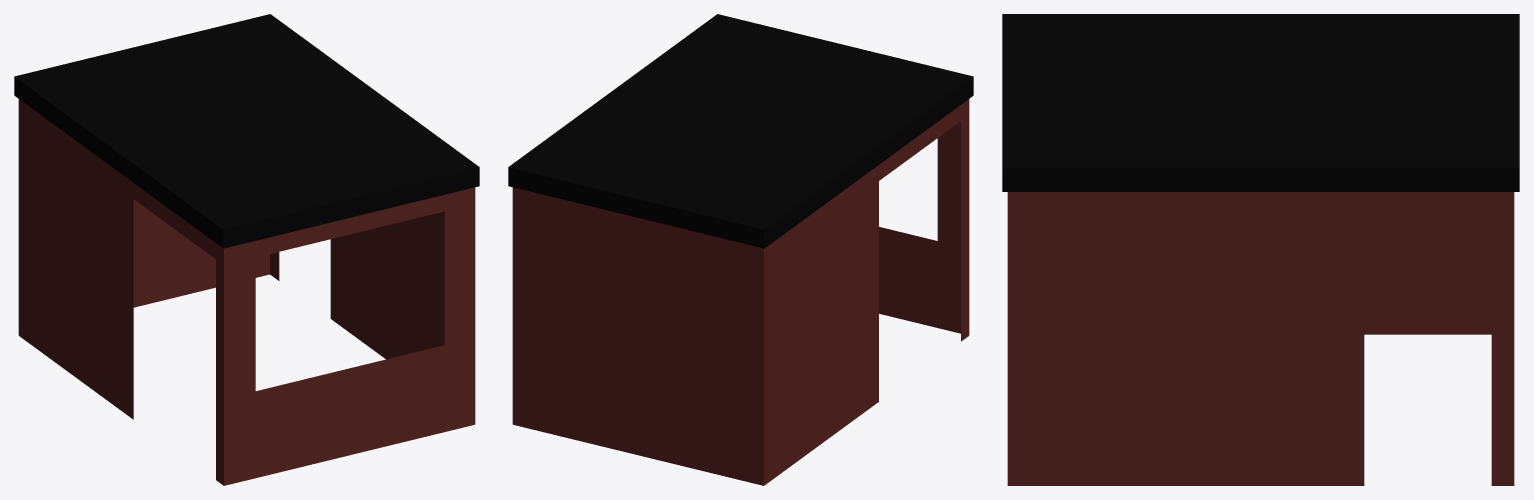
The model's file is Bed04.fbx.
3 renders of one model, left to right at view 1: azimuth 30°, elevation 25°; view 2: azimuth 150°, elevation 25°; view 3: azimuth 270°, elevation 25°, orthographic. The views are drawn at different scales.
Visible parts, largest first — view 1: Bed04; view 2: Bed04; view 3: Bed04.
Boxes of the visible parts, left/top/right/bottom form: Bed04: left=14, top=14, right=479, bottom=485; Bed04: left=508, top=14, right=973, bottom=485; Bed04: left=1002, top=14, right=1519, bottom=485.
Size of the model in its own units: 255 by 245 by 360.
